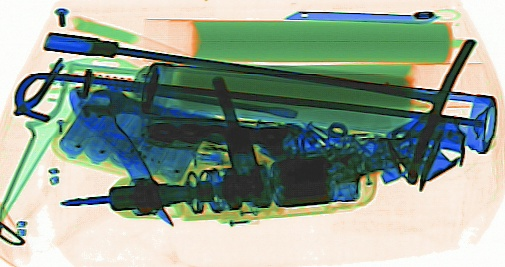knife: (281, 8, 441, 25)
